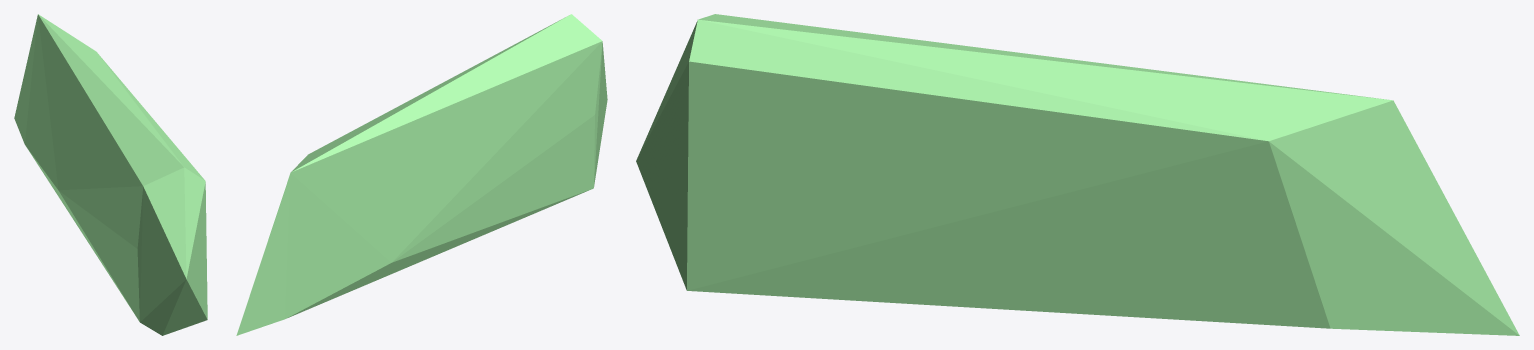
Rendered from spatula_robot_base_coll_7.dae.
3 views of the same model, side by side, from view 1: azimuth 30°, elevation 25°; view 2: azimuth 150°, elevation 25°; view 3: azimuth 270°, elevation 25° (orthographic). The views are drawn at different scales.
Visible parts, largest first — view 1: Node_0x7fe6917b6bb0; view 2: Node_0x7fe6917b6bb0; view 3: Node_0x7fe6917b6bb0.
Part boxes in pixels (box(x1,y1,x2,y2)): Node_0x7fe6917b6bb0: box(14, 14, 207, 335); Node_0x7fe6917b6bb0: box(236, 14, 607, 335); Node_0x7fe6917b6bb0: box(636, 14, 1519, 335).
Size of the model in its own units: 0.0212 by 0.0268 by 0.0788.
